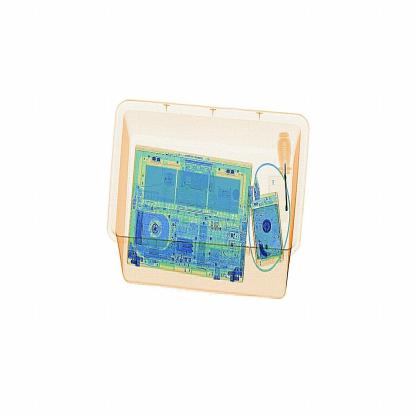wrench: (272, 118, 302, 219)
